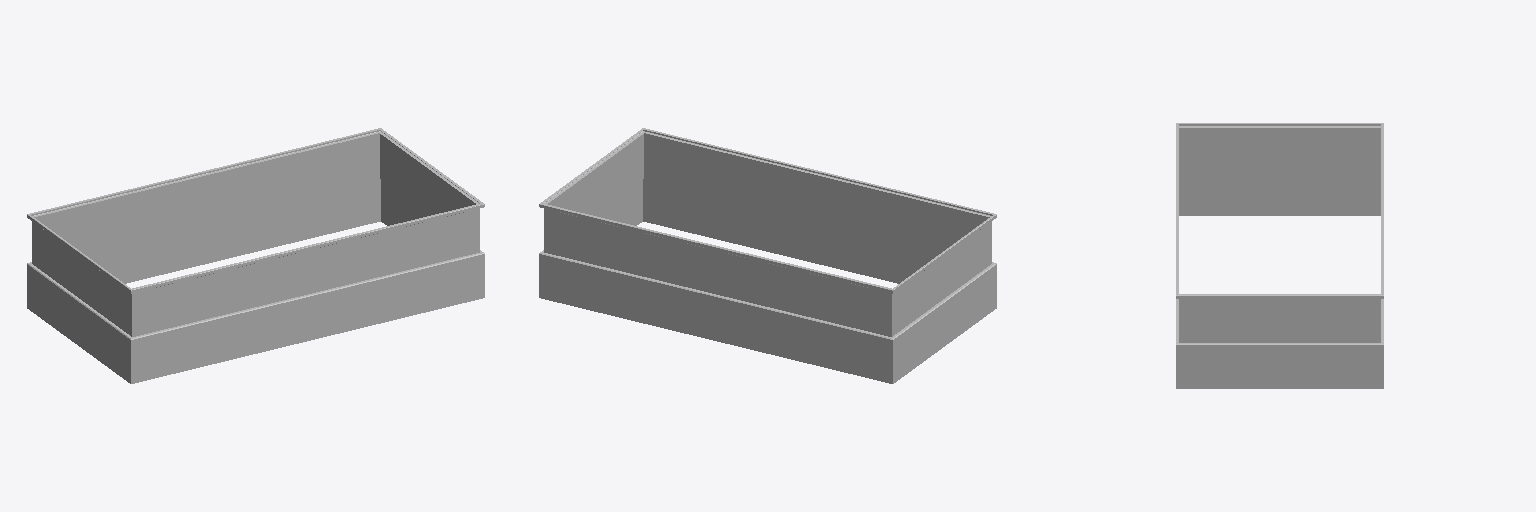
The model's file is BuildingBase_2x1_B.obj.
The picture shows the model from 3 angles: view 1: azimuth 30°, elevation 25°; view 2: azimuth 150°, elevation 25°; view 3: azimuth 270°, elevation 25°; orthographic projection.
Visible parts, largest first — view 1: 2x1_BuildingBase_Cube.017; view 2: 2x1_BuildingBase_Cube.017; view 3: 2x1_BuildingBase_Cube.017.
Part boxes in pixels (bbox=[...]): 2x1_BuildingBase_Cube.017: bbox=[27, 128, 484, 383]; 2x1_BuildingBase_Cube.017: bbox=[539, 128, 996, 383]; 2x1_BuildingBase_Cube.017: bbox=[1176, 123, 1383, 388].
Bounding box in the file's own units: 4.06 × 1.03 × 2.07.